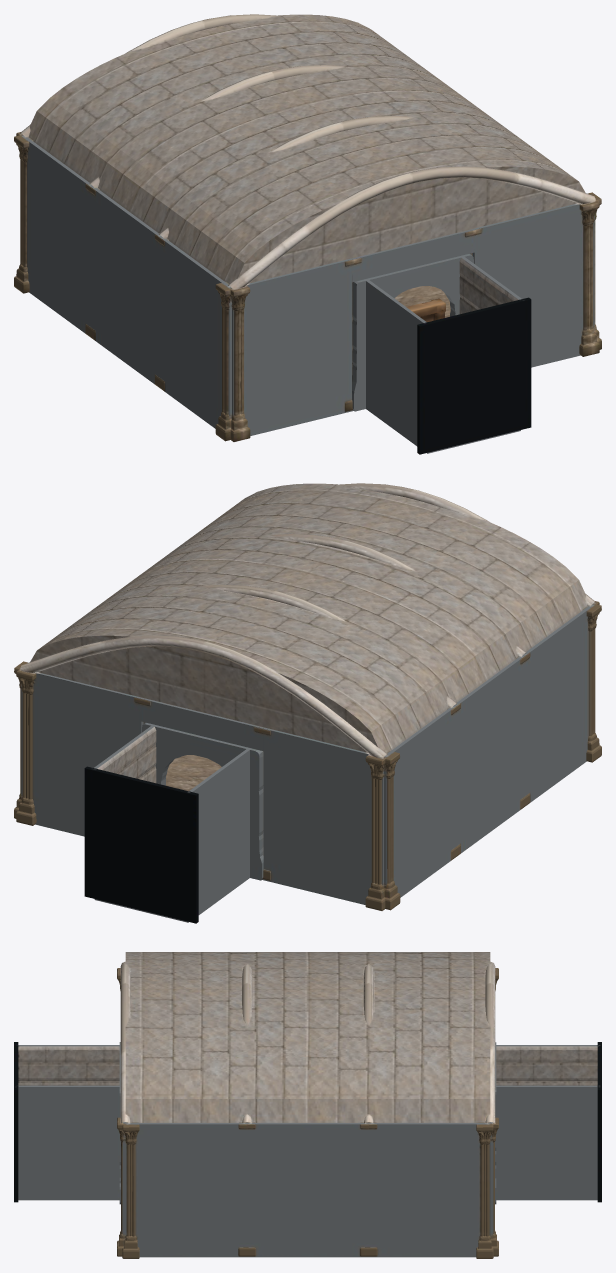
File: room.glb
3 renders of one model, top to bottom at view 1: azimuth 30°, elevation 25°; view 2: azimuth 150°, elevation 25°; view 3: azimuth 270°, elevation 25°, orthographic. The views are drawn at different scales.
Visible parts, largest first — view 1: GUARDIAN-ROOM; view 2: GUARDIAN-ROOM; view 3: GUARDIAN-ROOM.
Part boxes in pixels (x1,y1,x2,y2): GUARDIAN-ROOM: (14, 14, 601, 454); GUARDIAN-ROOM: (14, 483, 601, 923); GUARDIAN-ROOM: (14, 952, 601, 1258).
Size of the model in its own units: 10.48 by 5.95 by 16.12.
1 material, 1 textured.
